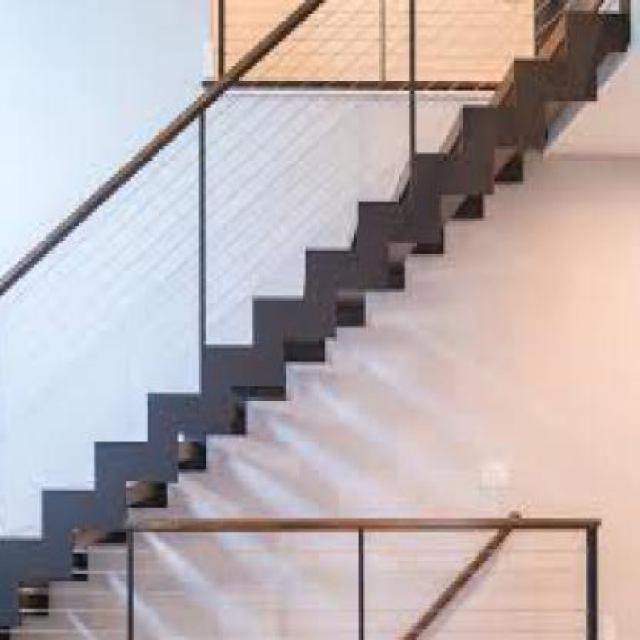stair: (1, 0, 635, 637)
